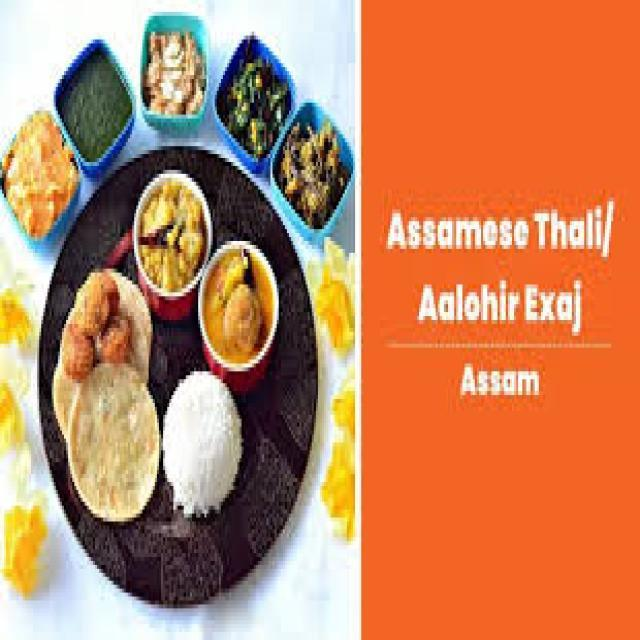dal: (321, 381, 357, 534), (311, 244, 359, 353)
rice: (157, 372, 248, 528), (1, 217, 43, 420)
sweet: (200, 236, 281, 379)
veg-fry: (3, 96, 85, 245)
